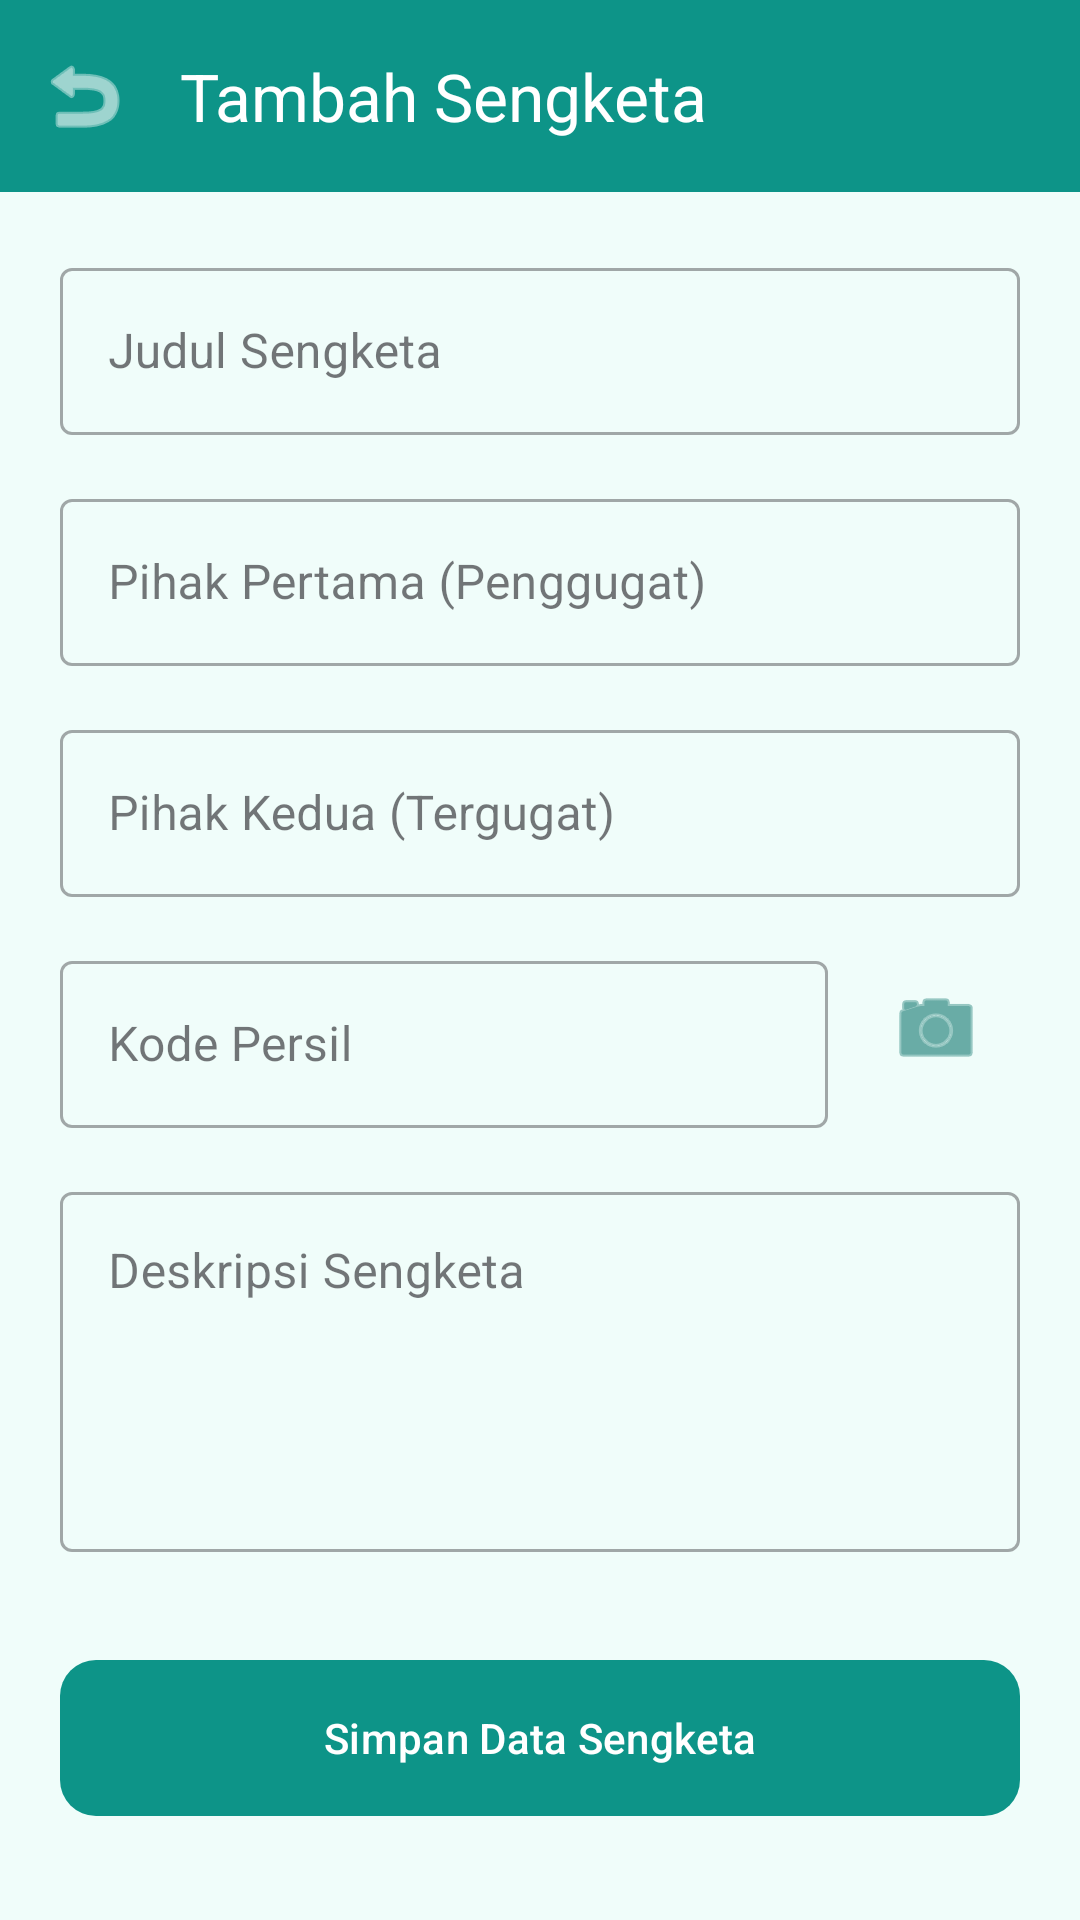

Where icons sit on this 1080px×1920px app screen, as (x1, y1, x2, y2):
camera: (899, 998, 973, 1057)
